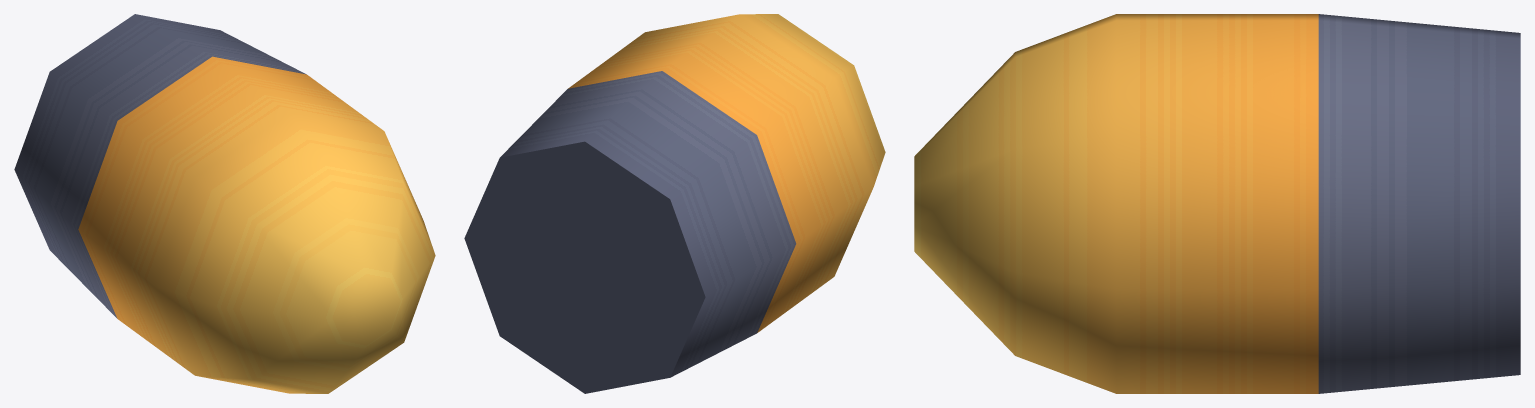
File: weapon-ammo-bullet.glb
The picture shows the model from 3 angles, left to right: view 1: azimuth 30°, elevation 25°; view 2: azimuth 150°, elevation 25°; view 3: azimuth 270°, elevation 25°; orthographic projection. The views are drawn at different scales.
Visible parts, largest first — view 1: weapon-ammo-bullet; view 2: weapon-ammo-bullet; view 3: weapon-ammo-bullet.
Part boxes in pixels (left/top/right/bottom): weapon-ammo-bullet: left=14, top=14, right=435, bottom=393; weapon-ammo-bullet: left=464, top=14, right=885, bottom=393; weapon-ammo-bullet: left=914, top=14, right=1520, bottom=393.
Size of the model in its own units: 0.2 by 0.2 by 0.3.
1 material, 1 textured.
